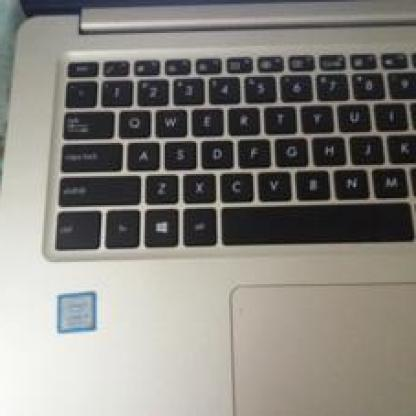keyboard: (28, 35, 414, 264)
